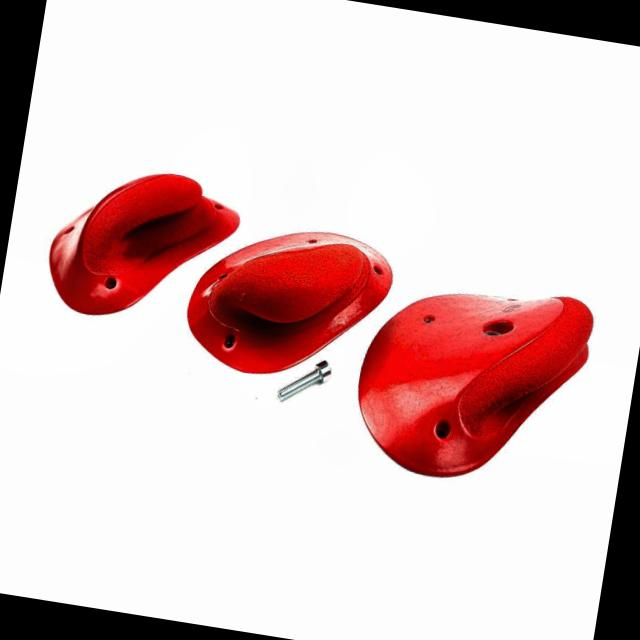Hold: (341, 261, 598, 503), (28, 134, 246, 338), (177, 208, 409, 398)
